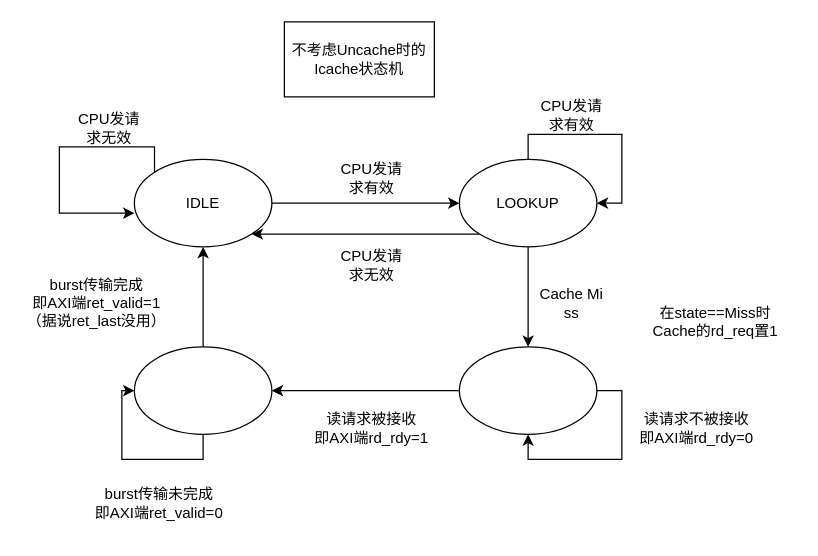
Some shapes in this 818 by 556 pixel diagram are drawn without their labels. The box of each missing label's shape, as (x1, y1, x2, y2) in pixels:
MISS: (458, 346, 597, 434)
REFILL: (133, 346, 272, 434)
